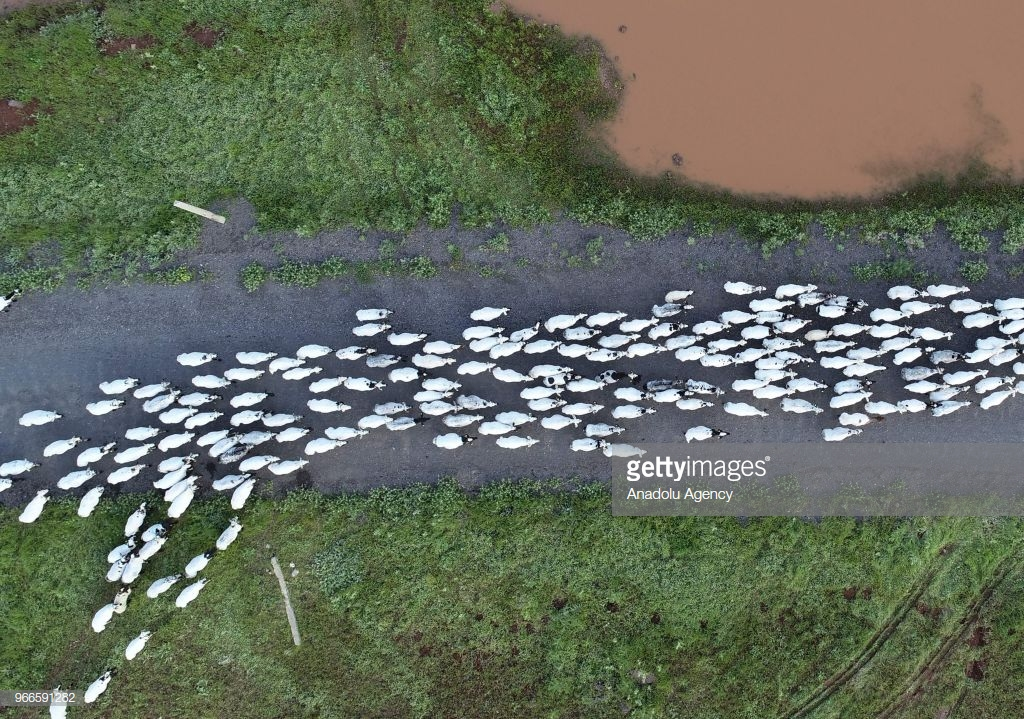sheep: (11, 482, 56, 530), (78, 667, 124, 708), (317, 419, 380, 446), (296, 389, 353, 416), (533, 308, 592, 333), (167, 486, 203, 526), (149, 402, 201, 428), (428, 430, 480, 456), (896, 363, 954, 386), (381, 412, 434, 437), (118, 501, 151, 541), (41, 433, 96, 457), (123, 626, 158, 663), (306, 374, 357, 399), (214, 517, 248, 554), (173, 579, 211, 612), (59, 463, 100, 493), (148, 569, 181, 606), (726, 399, 771, 426), (157, 469, 199, 497), (565, 431, 615, 454), (686, 422, 732, 447), (124, 422, 171, 446), (451, 387, 494, 413), (549, 336, 597, 359), (839, 410, 887, 433), (490, 430, 540, 452), (783, 372, 827, 397), (819, 383, 874, 403), (506, 318, 548, 344), (187, 542, 217, 578), (349, 371, 389, 398), (827, 367, 872, 391), (412, 349, 456, 373), (126, 378, 176, 399), (528, 357, 570, 382), (518, 381, 568, 402), (78, 482, 107, 518), (417, 399, 469, 419), (161, 392, 218, 410), (17, 408, 68, 428), (151, 454, 197, 476), (1, 455, 43, 479), (419, 370, 459, 395), (864, 317, 909, 339), (352, 321, 404, 340), (923, 392, 964, 416), (106, 536, 141, 564), (439, 411, 488, 431), (328, 343, 379, 362), (751, 365, 797, 386), (108, 444, 158, 463), (221, 403, 264, 425), (731, 340, 776, 361), (673, 375, 717, 396), (873, 331, 917, 352), (141, 468, 187, 488), (647, 383, 693, 403), (461, 334, 512, 352), (782, 394, 820, 418), (181, 377, 224, 398), (584, 308, 627, 329), (761, 337, 814, 354), (137, 389, 176, 412), (450, 360, 497, 379), (109, 583, 133, 620), (386, 327, 430, 347), (499, 409, 537, 432), (277, 361, 320, 381), (689, 318, 732, 338), (139, 536, 172, 562), (308, 433, 342, 458), (192, 430, 234, 450), (223, 478, 251, 508), (373, 399, 417, 418), (912, 318, 956, 337), (574, 347, 623, 364), (747, 298, 799, 314), (583, 421, 624, 441), (609, 383, 648, 404), (349, 303, 392, 322), (99, 466, 147, 483), (178, 350, 223, 368), (653, 295, 688, 318), (402, 386, 452, 402), (476, 420, 516, 440), (96, 600, 118, 636), (772, 280, 821, 296), (378, 365, 412, 388), (460, 324, 506, 341), (592, 369, 631, 389), (563, 401, 604, 420), (557, 323, 594, 344), (289, 339, 332, 357), (593, 329, 644, 344), (818, 427, 869, 442), (84, 399, 124, 418), (235, 347, 275, 366), (714, 309, 754, 328), (866, 395, 899, 418), (490, 338, 526, 359), (863, 303, 899, 324), (881, 284, 923, 302), (717, 280, 767, 295), (726, 377, 770, 394), (102, 377, 139, 397), (421, 336, 458, 356), (489, 363, 526, 383), (223, 368, 269, 384), (767, 314, 813, 330), (934, 381, 969, 402), (887, 347, 922, 368), (643, 319, 686, 336), (525, 393, 567, 410), (812, 336, 858, 351), (241, 429, 279, 447), (817, 349, 855, 367), (605, 443, 647, 459), (672, 397, 714, 413), (921, 282, 963, 298), (742, 309, 793, 322), (122, 553, 141, 587), (241, 450, 275, 469), (679, 346, 717, 363), (940, 292, 974, 311), (758, 354, 795, 371), (703, 349, 736, 368), (228, 391, 267, 407), (473, 306, 512, 322), (198, 437, 234, 454), (925, 349, 962, 365), (663, 334, 699, 350), (901, 378, 937, 394), (617, 405, 658, 419), (215, 470, 247, 487), (774, 347, 804, 365), (629, 316, 658, 334), (831, 322, 862, 337), (651, 291, 690, 302), (896, 402, 925, 415)
